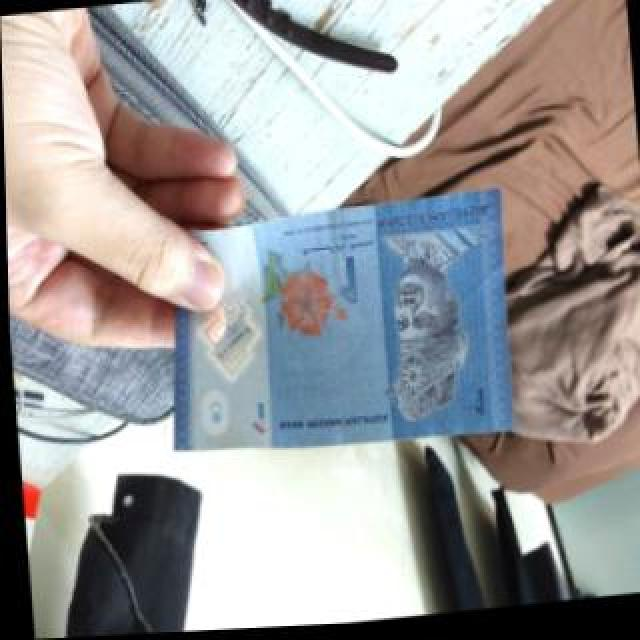1 Ringgit: (142, 192, 516, 473)
